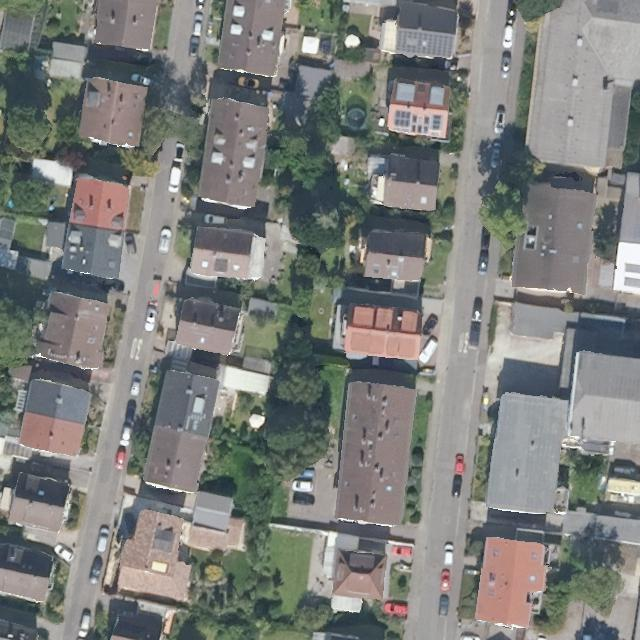PV: (392, 28, 458, 61), (391, 108, 413, 128), (411, 114, 430, 134), (432, 115, 442, 131)
